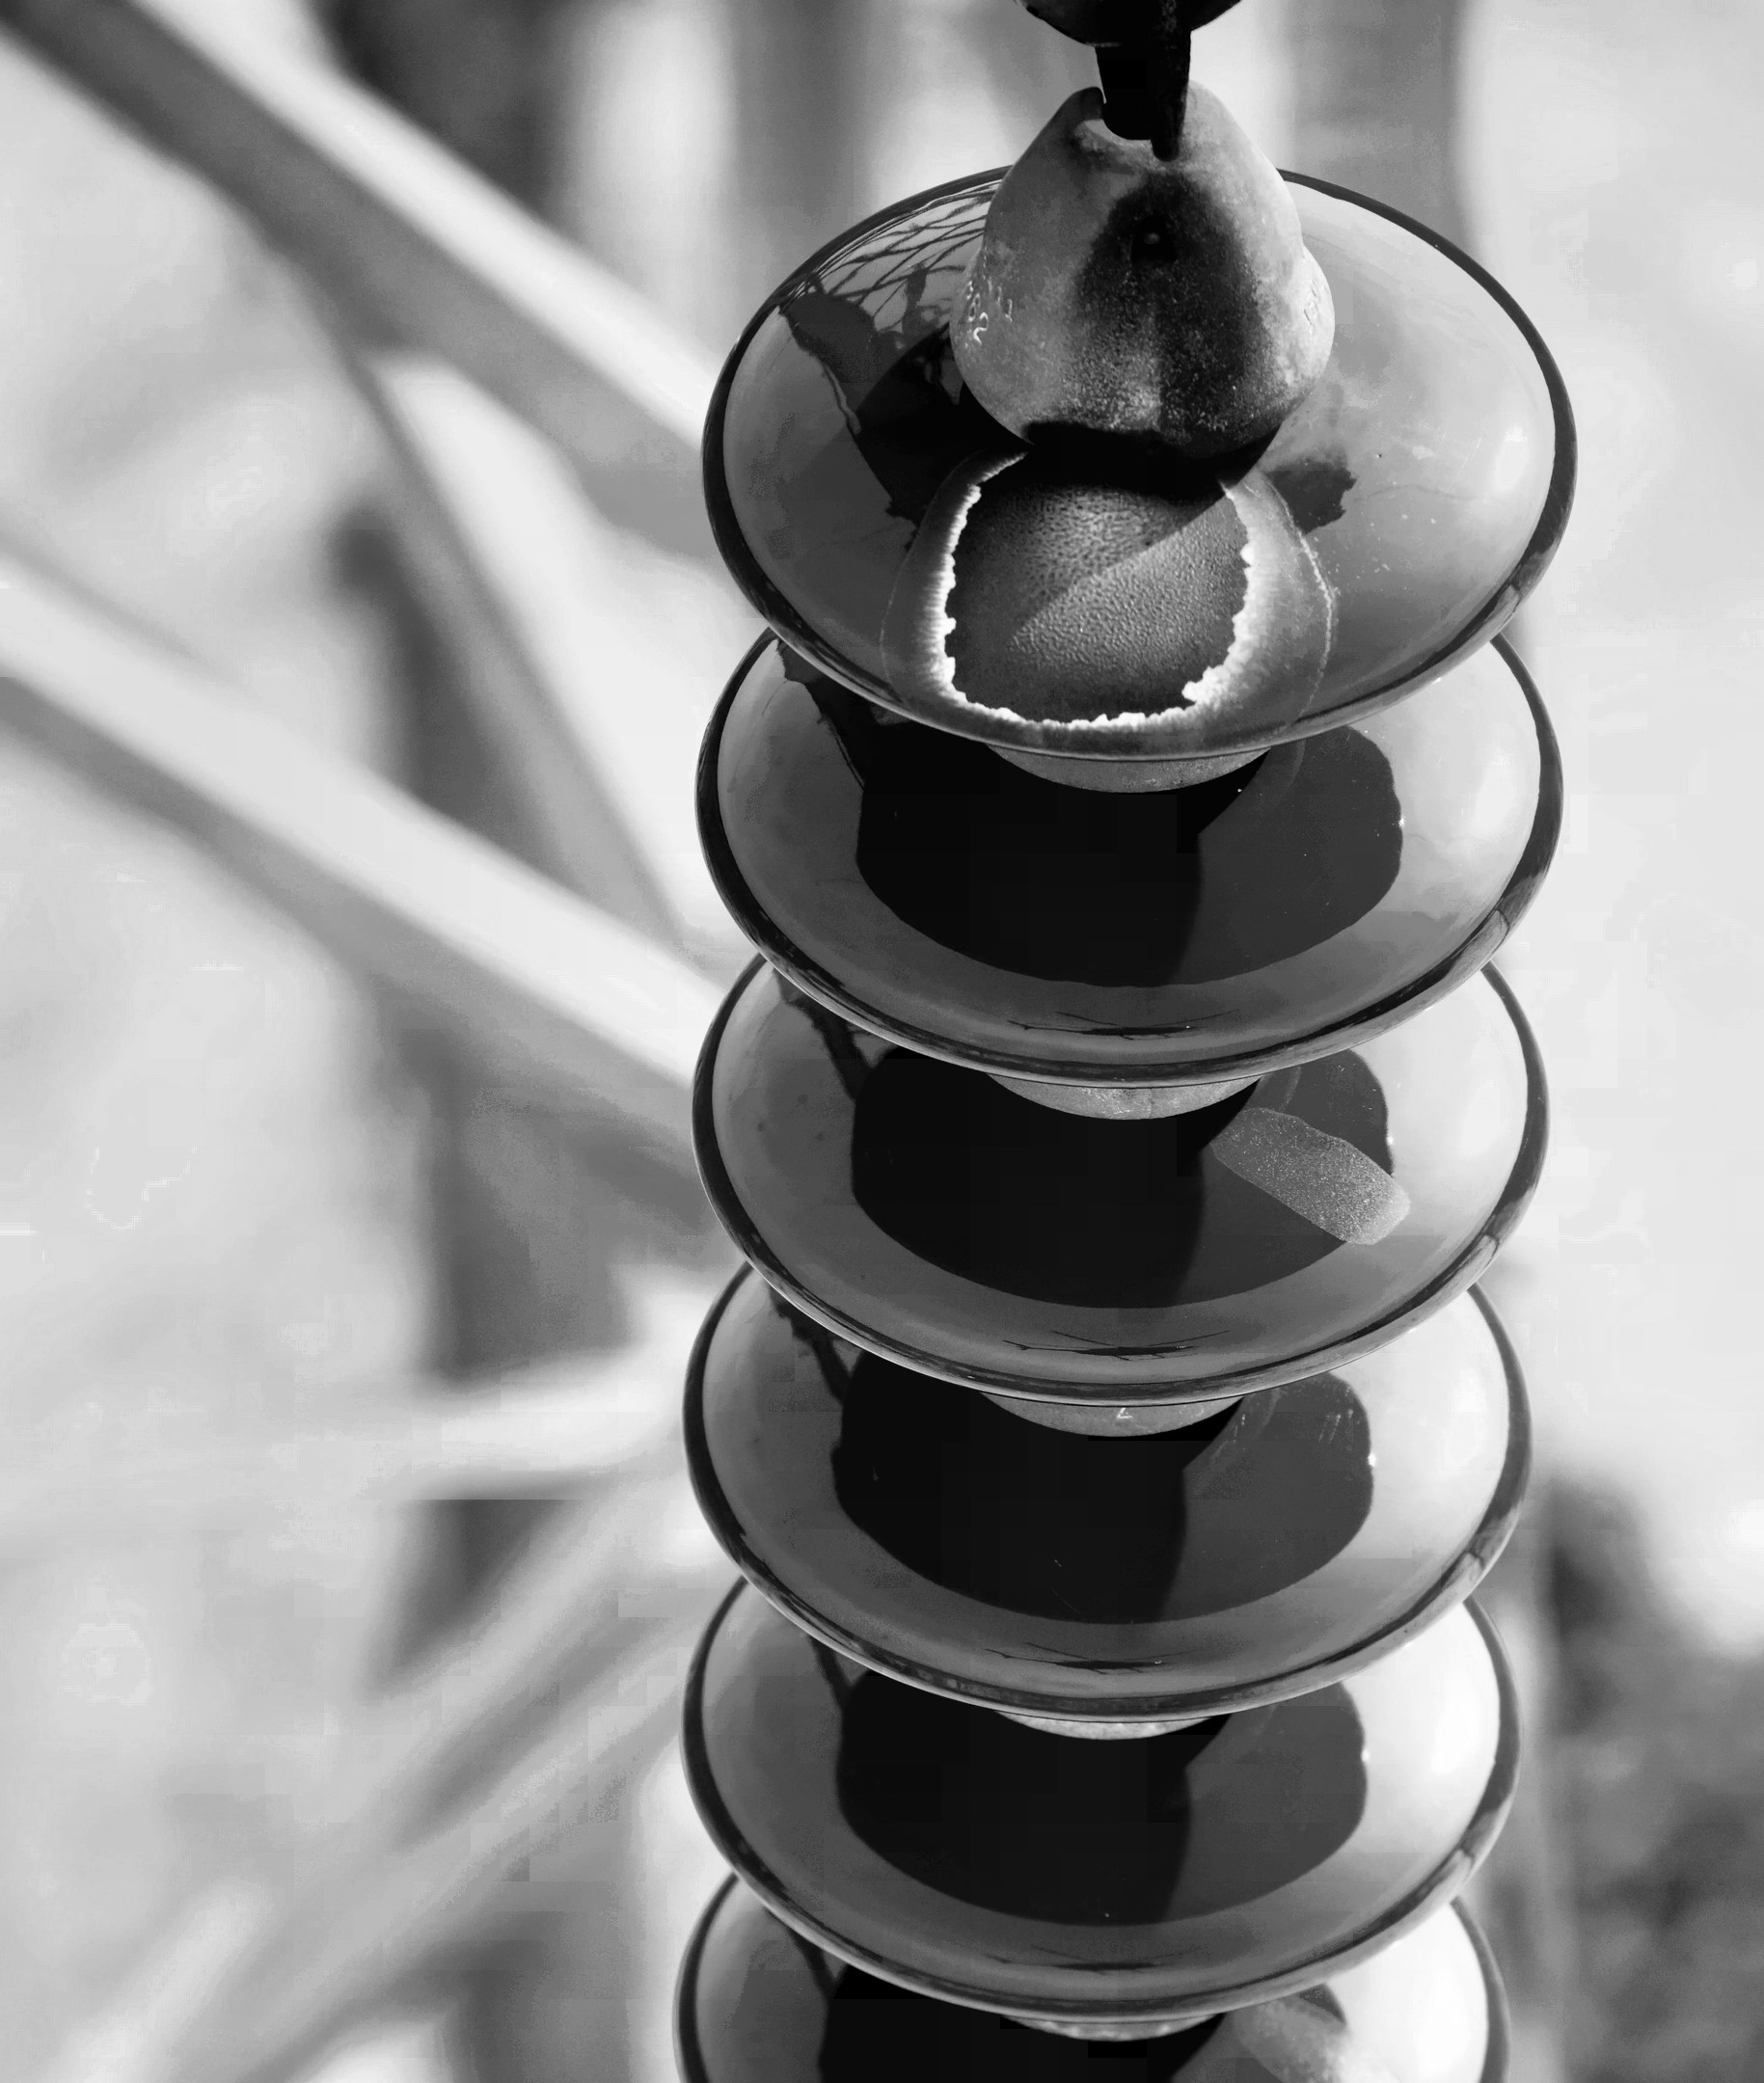Insulator flashover: (682, 147, 1599, 764)
